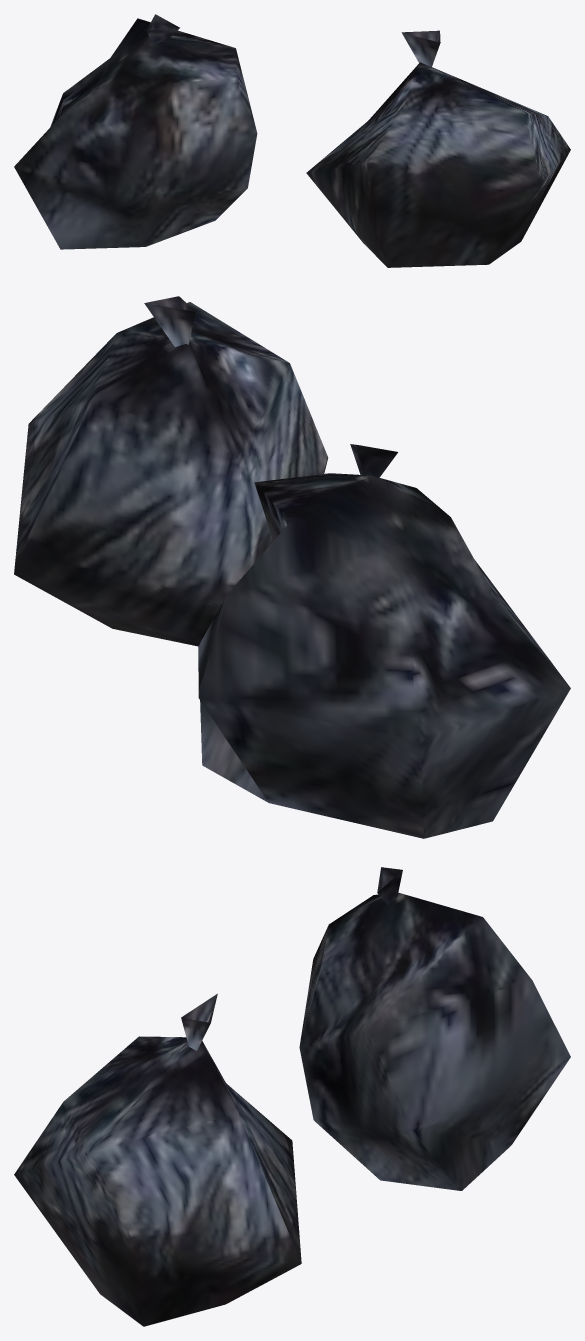
Rendered from BolsaBasura2.fbx.
3 views of the same model, one above another, from view 1: azimuth 30°, elevation 25°; view 2: azimuth 150°, elevation 25°; view 3: azimuth 270°, elevation 25° (orthographic). The views are drawn at different scales.
Visible parts, largest first — view 1: Bolsa_Basura; view 2: Bolsa_Basura; view 3: Bolsa_Basura.
Boxes of the visible parts, bbox=[...] form: Bolsa_Basura: bbox=[14, 14, 570, 267]; Bolsa_Basura: bbox=[14, 296, 570, 838]; Bolsa_Basura: bbox=[14, 867, 570, 1326].
Size of the model in its own units: 1.84 by 1.5 by 0.8656.
1 material, 1 textured.
